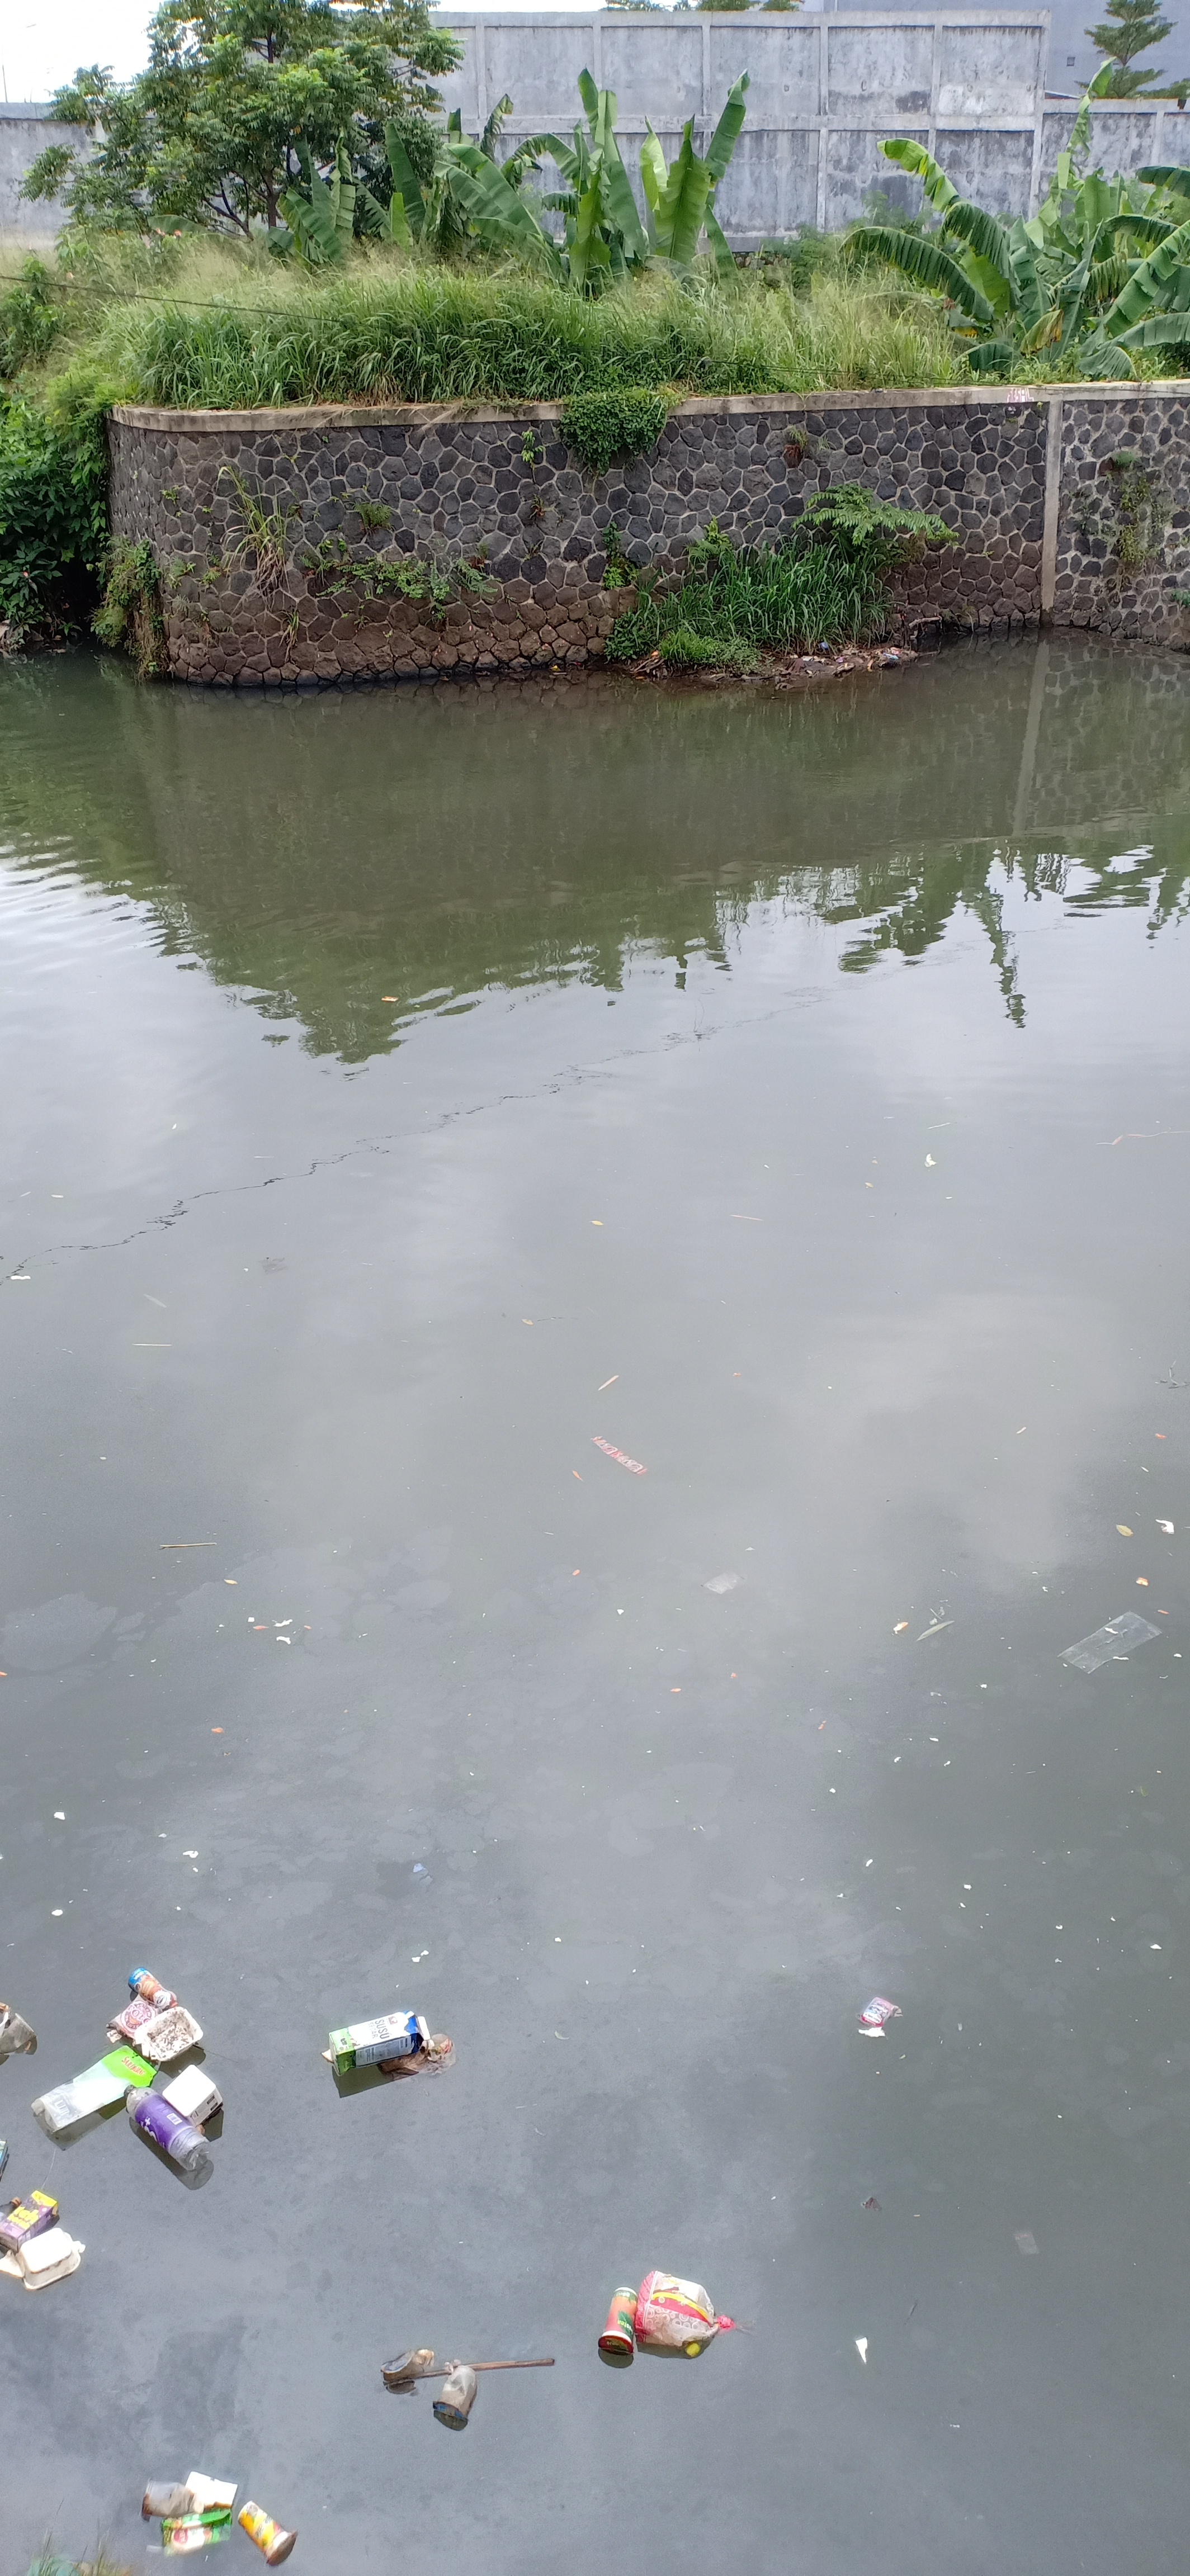Plastic Bottle: (123, 2085, 210, 2172), (128, 1968, 179, 2009), (0, 2196, 21, 2223), (551, 665, 560, 672)
